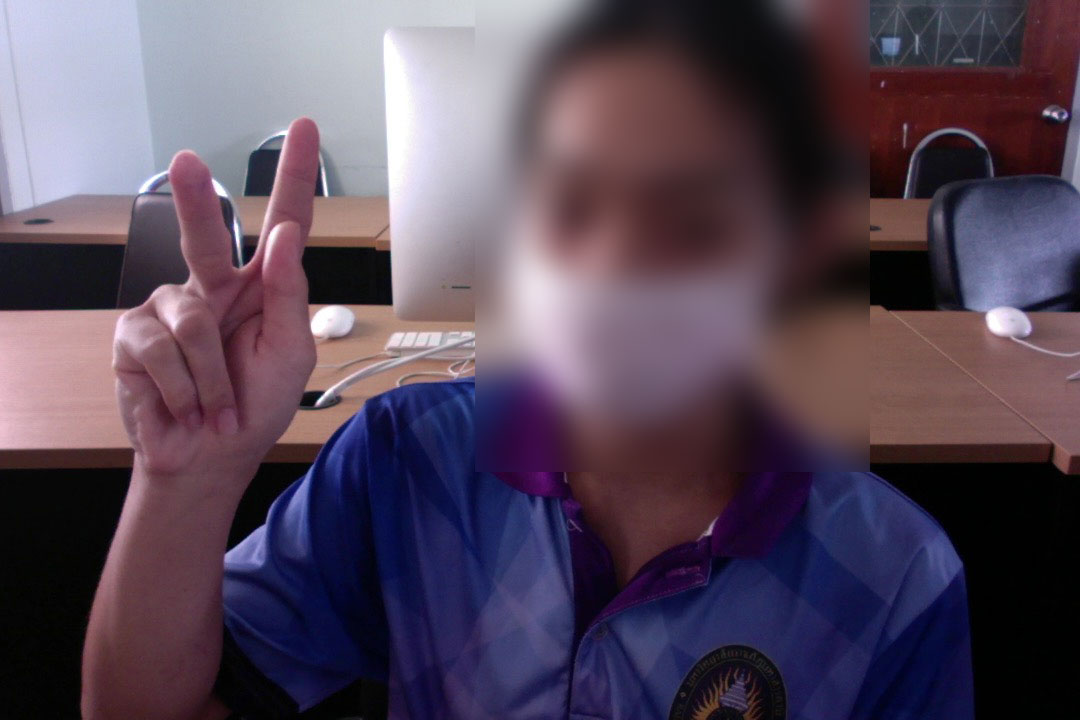ko: (104, 113, 324, 478)
